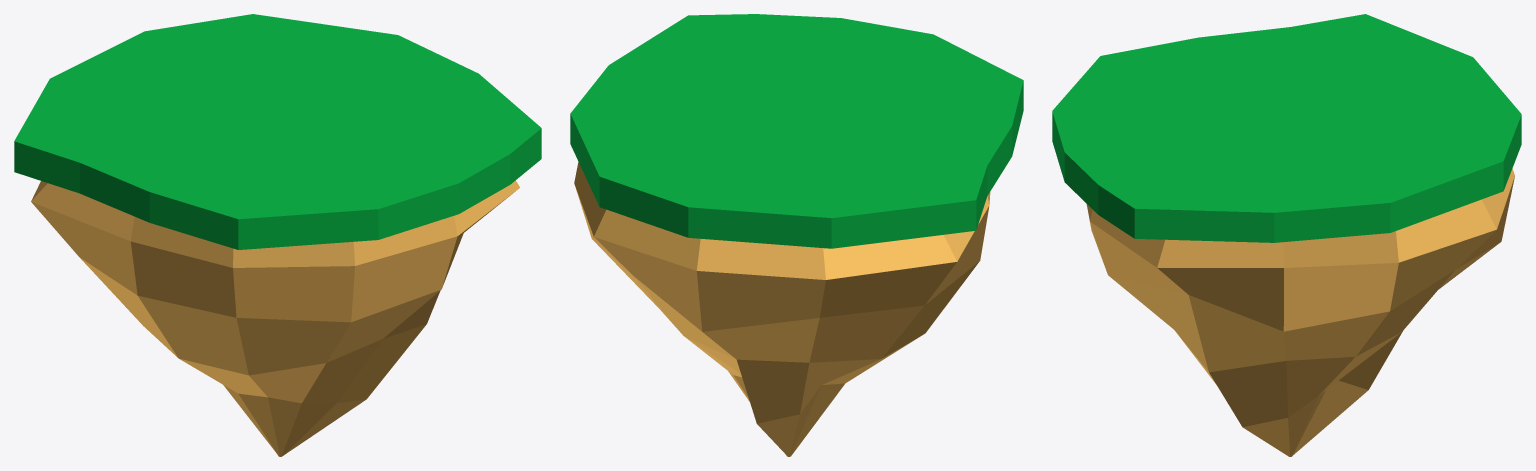
The model's file is island.glb.
3 views of the same model, side by side, from view 1: azimuth 30°, elevation 25°; view 2: azimuth 150°, elevation 25°; view 3: azimuth 270°, elevation 25° (orthographic). The views are drawn at different scales.
Parts seen in each view (by area): view 1: polySurface34, polySurface35; view 2: polySurface34, polySurface35; view 3: polySurface34, polySurface35.
Part boxes in pixels (bbox=[...]): polySurface34: bbox=[14, 14, 541, 249]; polySurface35: bbox=[31, 180, 519, 456]; polySurface34: bbox=[570, 14, 1023, 248]; polySurface35: bbox=[574, 162, 990, 456]; polySurface34: bbox=[1052, 14, 1521, 242]; polySurface35: bbox=[1086, 168, 1514, 456].
Size of the model in its own units: 5.63 by 4.41 by 5.62.
